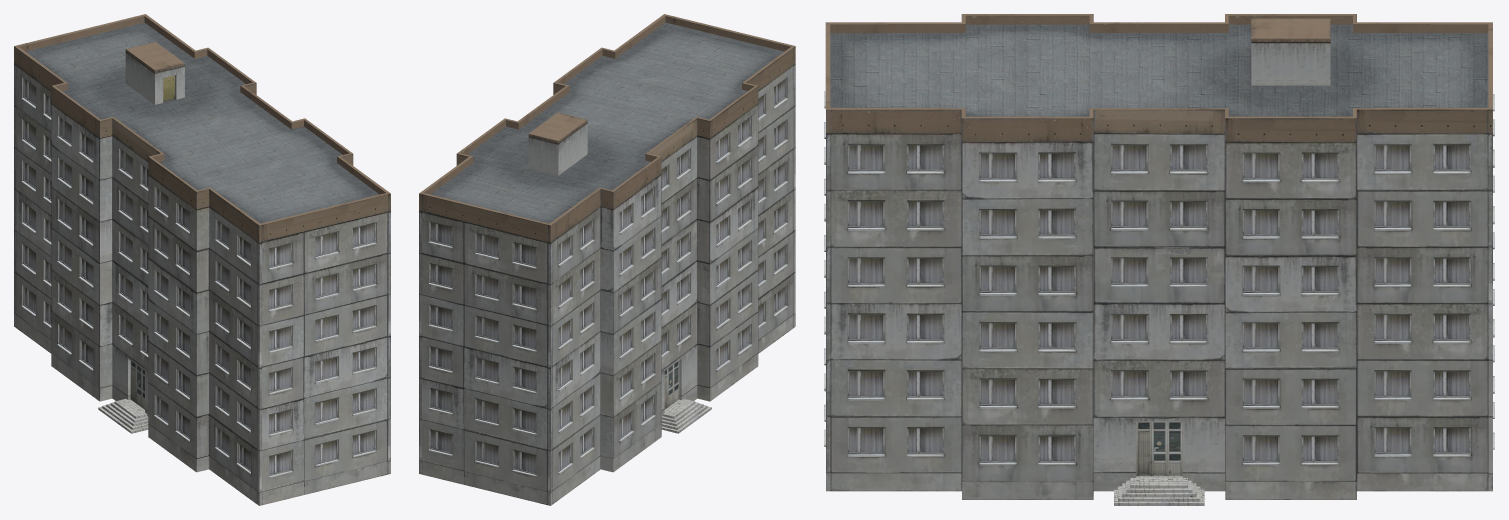
The model's file is soviet.glb.
3 renders of one model, left to right at view 1: azimuth 30°, elevation 25°; view 2: azimuth 150°, elevation 25°; view 3: azimuth 270°, elevation 25°, orthographic. The views are drawn at different scales.
Parts seen in each view (by area): view 1: BUILDING_lambert1_0; view 2: BUILDING_lambert1_0; view 3: BUILDING_lambert1_0.
Boxes of the visible parts, x1,y1,x2,y2 form: BUILDING_lambert1_0: (14, 14, 390, 505); BUILDING_lambert1_0: (419, 14, 795, 505); BUILDING_lambert1_0: (824, 14, 1494, 505).
Bounding box in the file's own units: 0.6832 × 1.15 × 1.66.
1 material, 1 textured.
